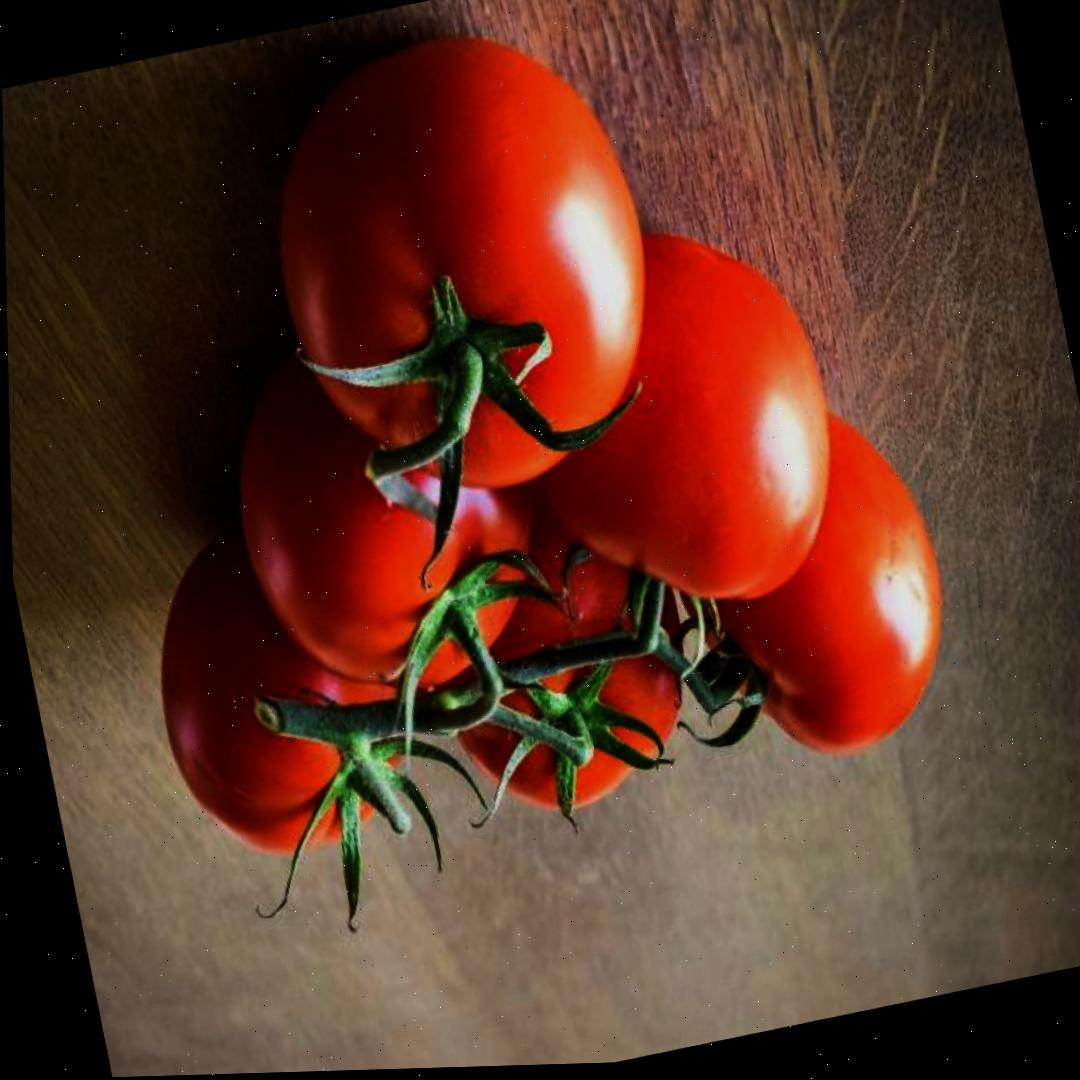matang: (239, 5, 684, 522), (496, 198, 859, 632), (207, 290, 568, 716), (644, 375, 967, 777), (129, 481, 454, 868)
